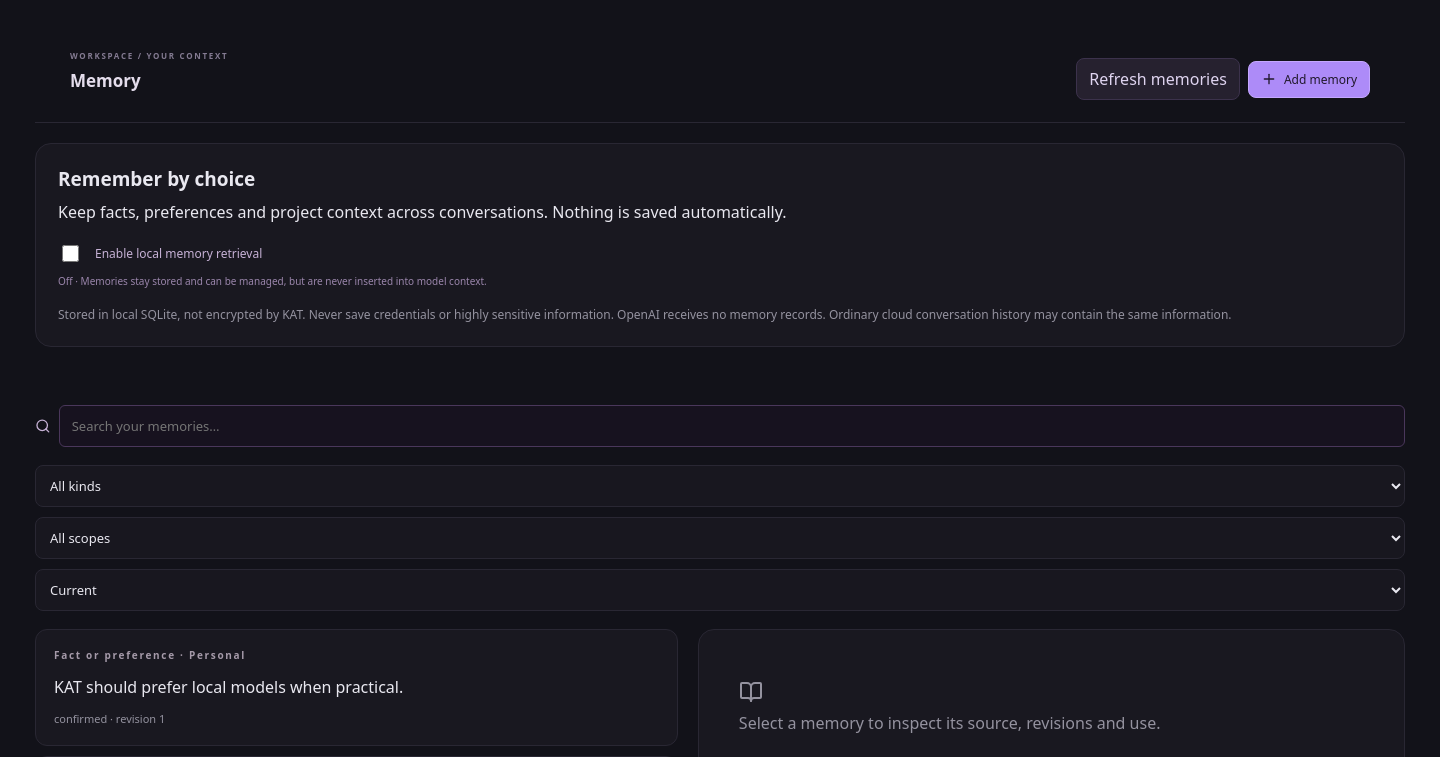
Scenario: explicit memory workspace › supersedes only after selecting a reviewed replacement
Click the button with aria-label "Inspect memory: KAT should prefer local models when practica": [356, 688] box left=35, top=629, right=678, bottom=746
(page scrolled)
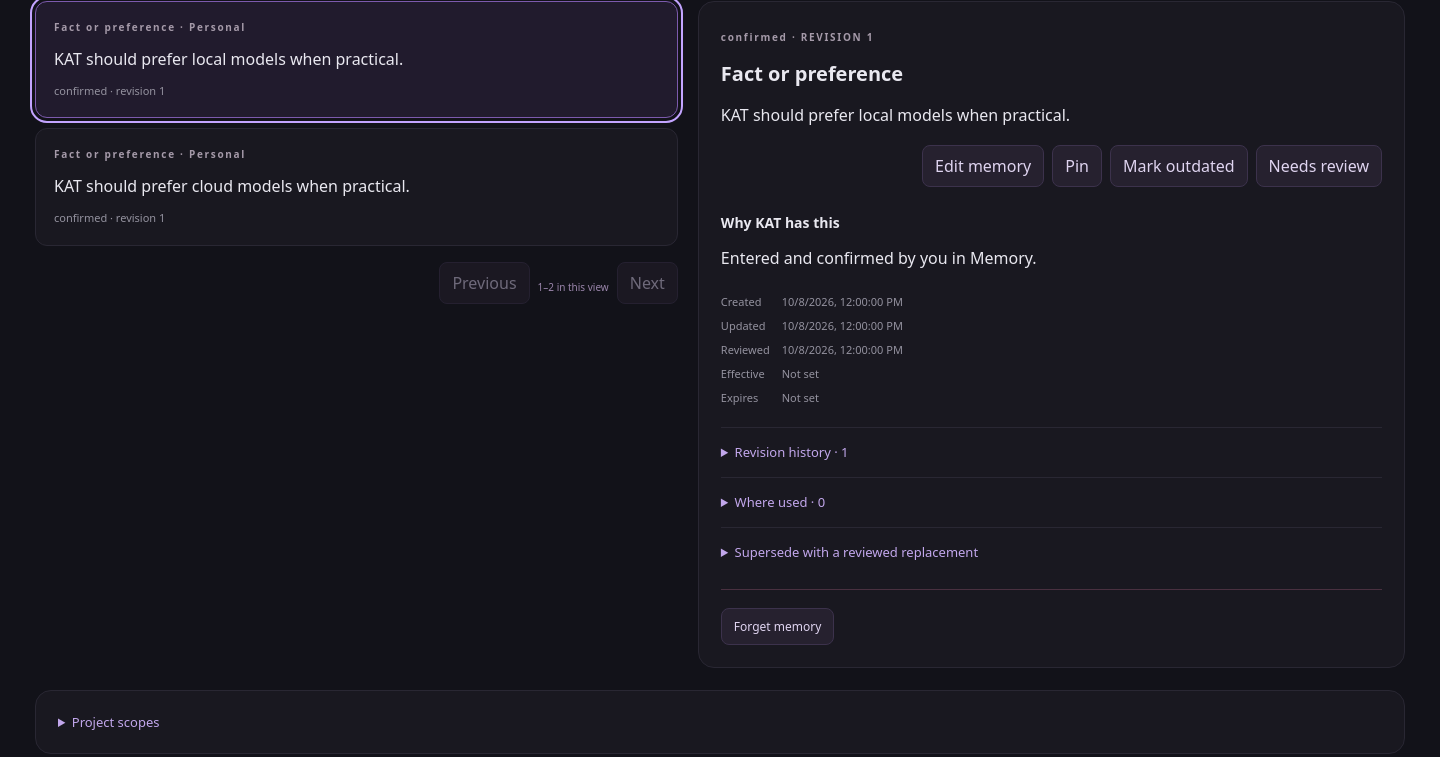
Click the heading "Supersede with a reviewed replacement": [856, 552] box left=735, top=543, right=978, bottom=561
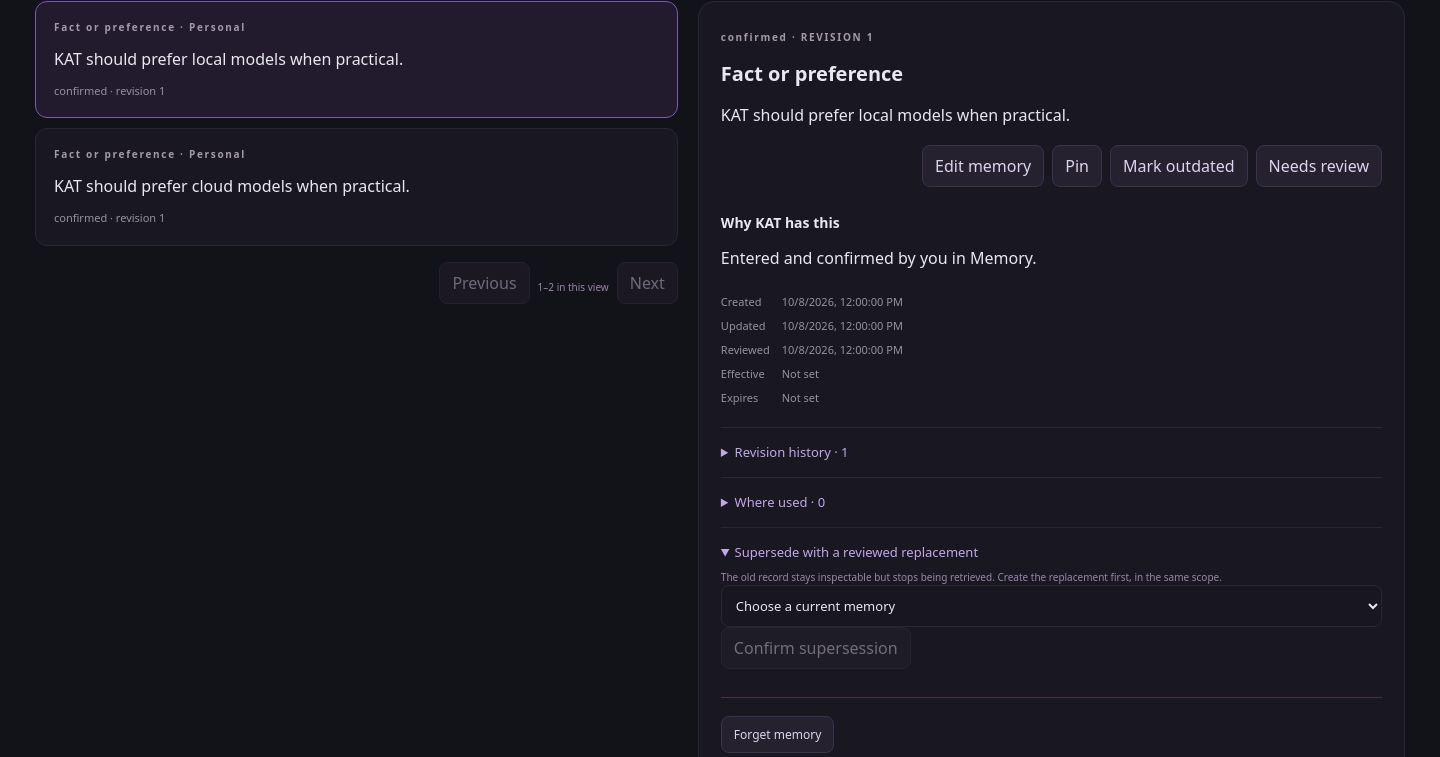
Expected: the button "Confirm supersession" is disabled, left=721, top=627, right=911, bottom=669
Select "KAT should prefer cloud models when practical." in the dropdown named "Replacement memory": [1051, 606] box left=721, top=585, right=1382, bottom=627
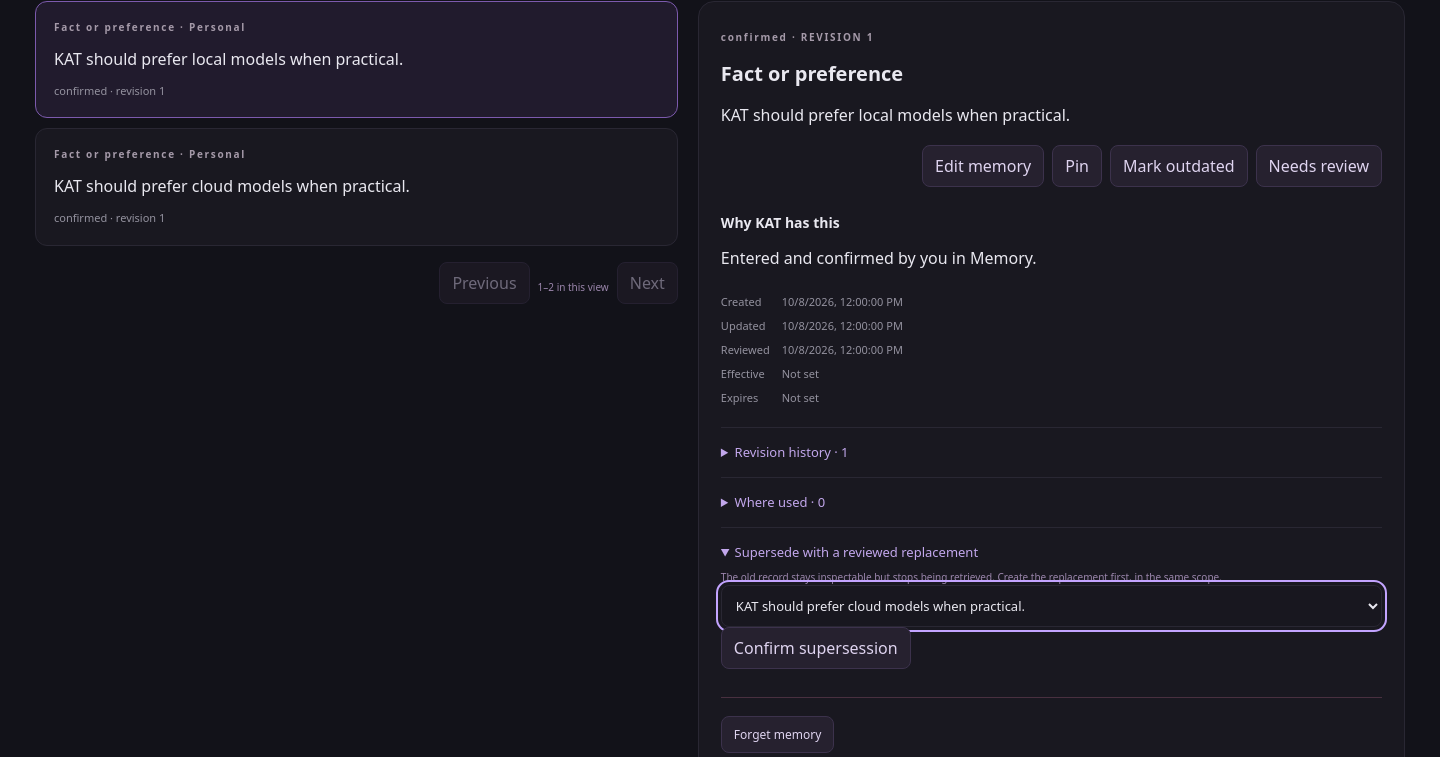
Click the button "Confirm supersession": [816, 648] box left=721, top=627, right=911, bottom=669
(page scrolled)
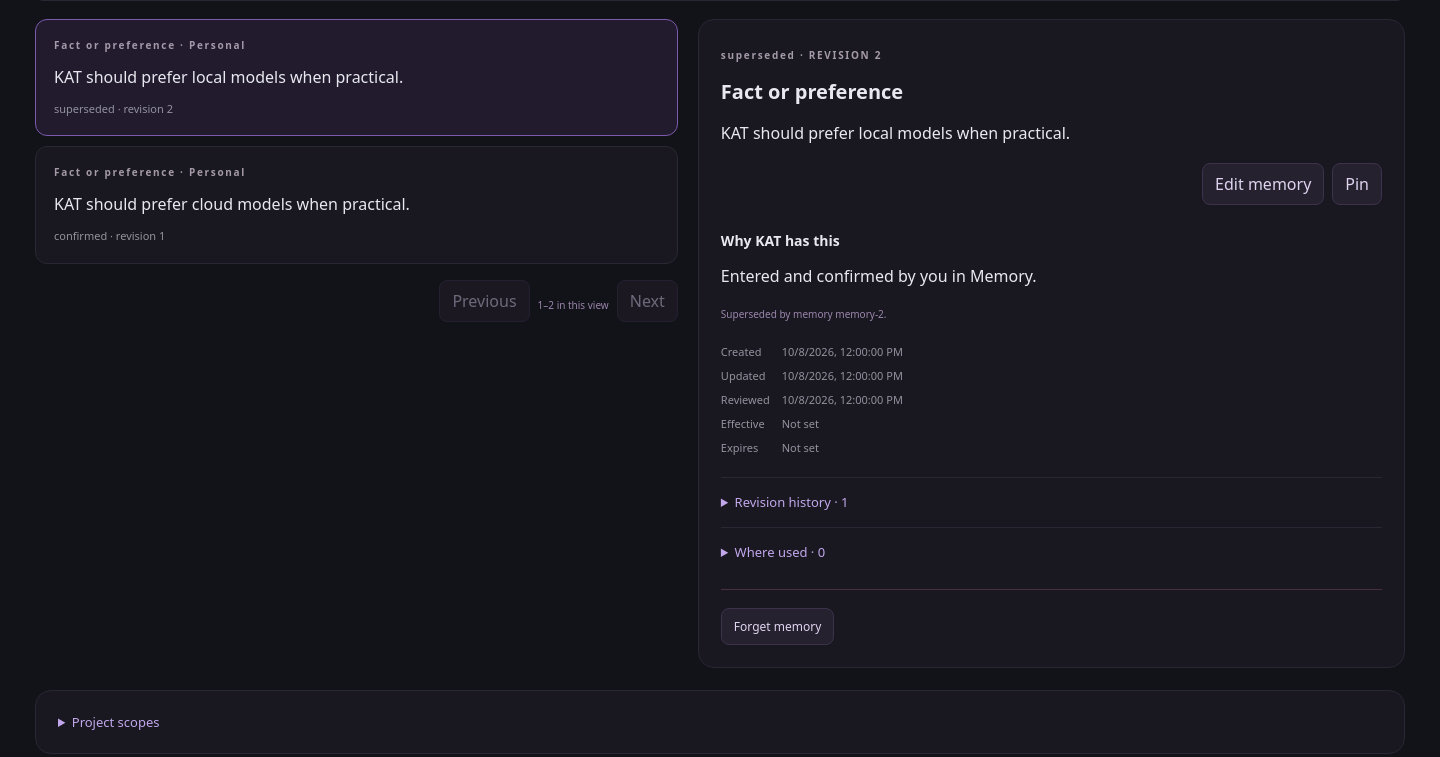
Expected: the button "Confirm supersession" is gone
